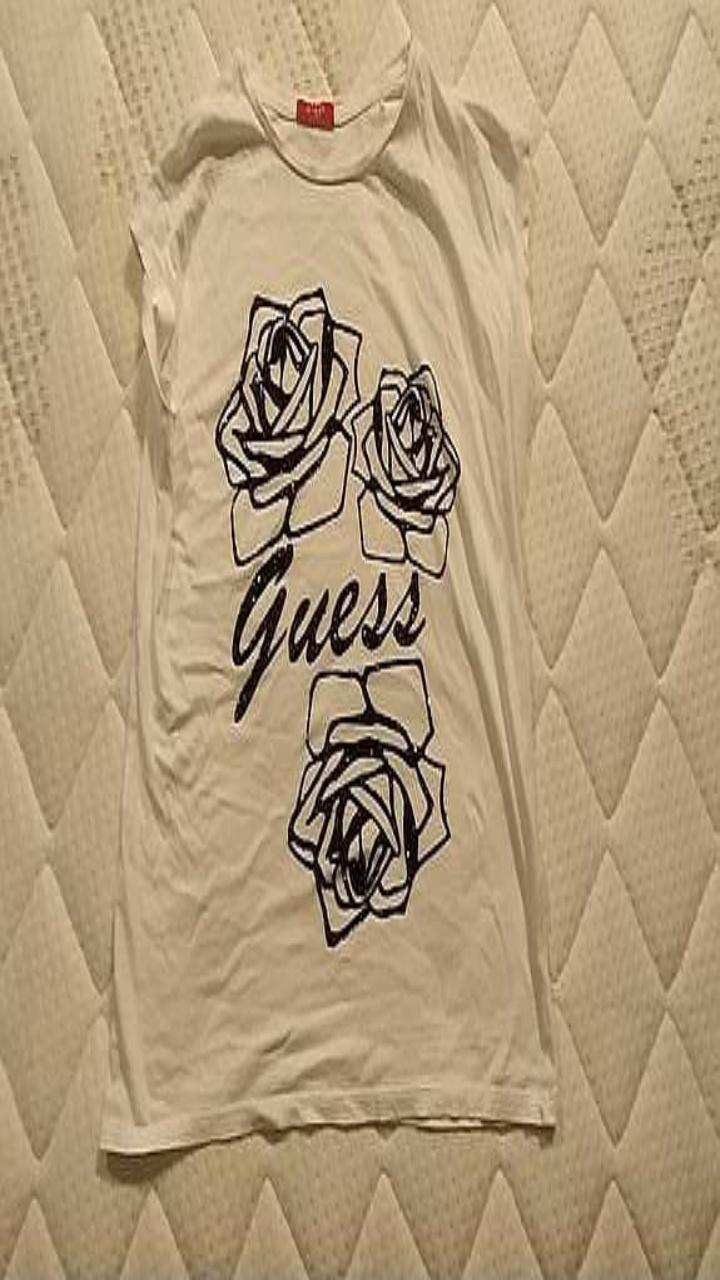T-Shirt: (100, 35, 558, 1152)
